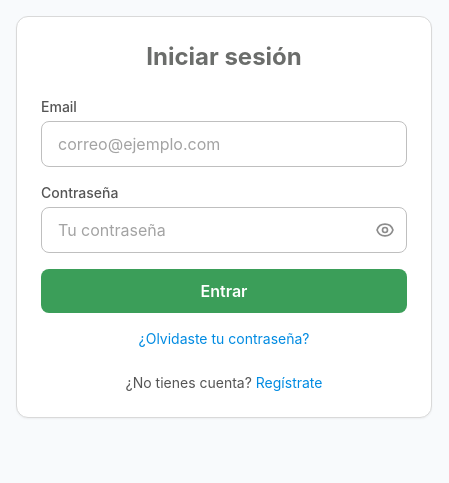
Test: Login › shows validation errors for empty fields
This screenshot has width=449, height=483.
What coordinates should you click on to do the following:
click the button "Entrar"
I would click on:
 (224, 291)
Its box is [41,269,407,313].
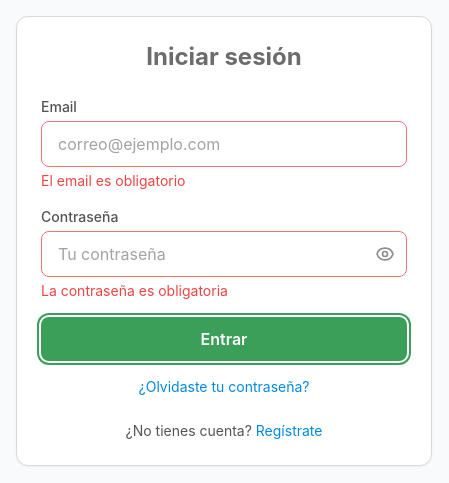
Expected: the text "El email es obligatorio" is shown, [41,172,186,189]
Expected: the text "La contraseña es obligatoria" is shown, [41,282,228,299]
